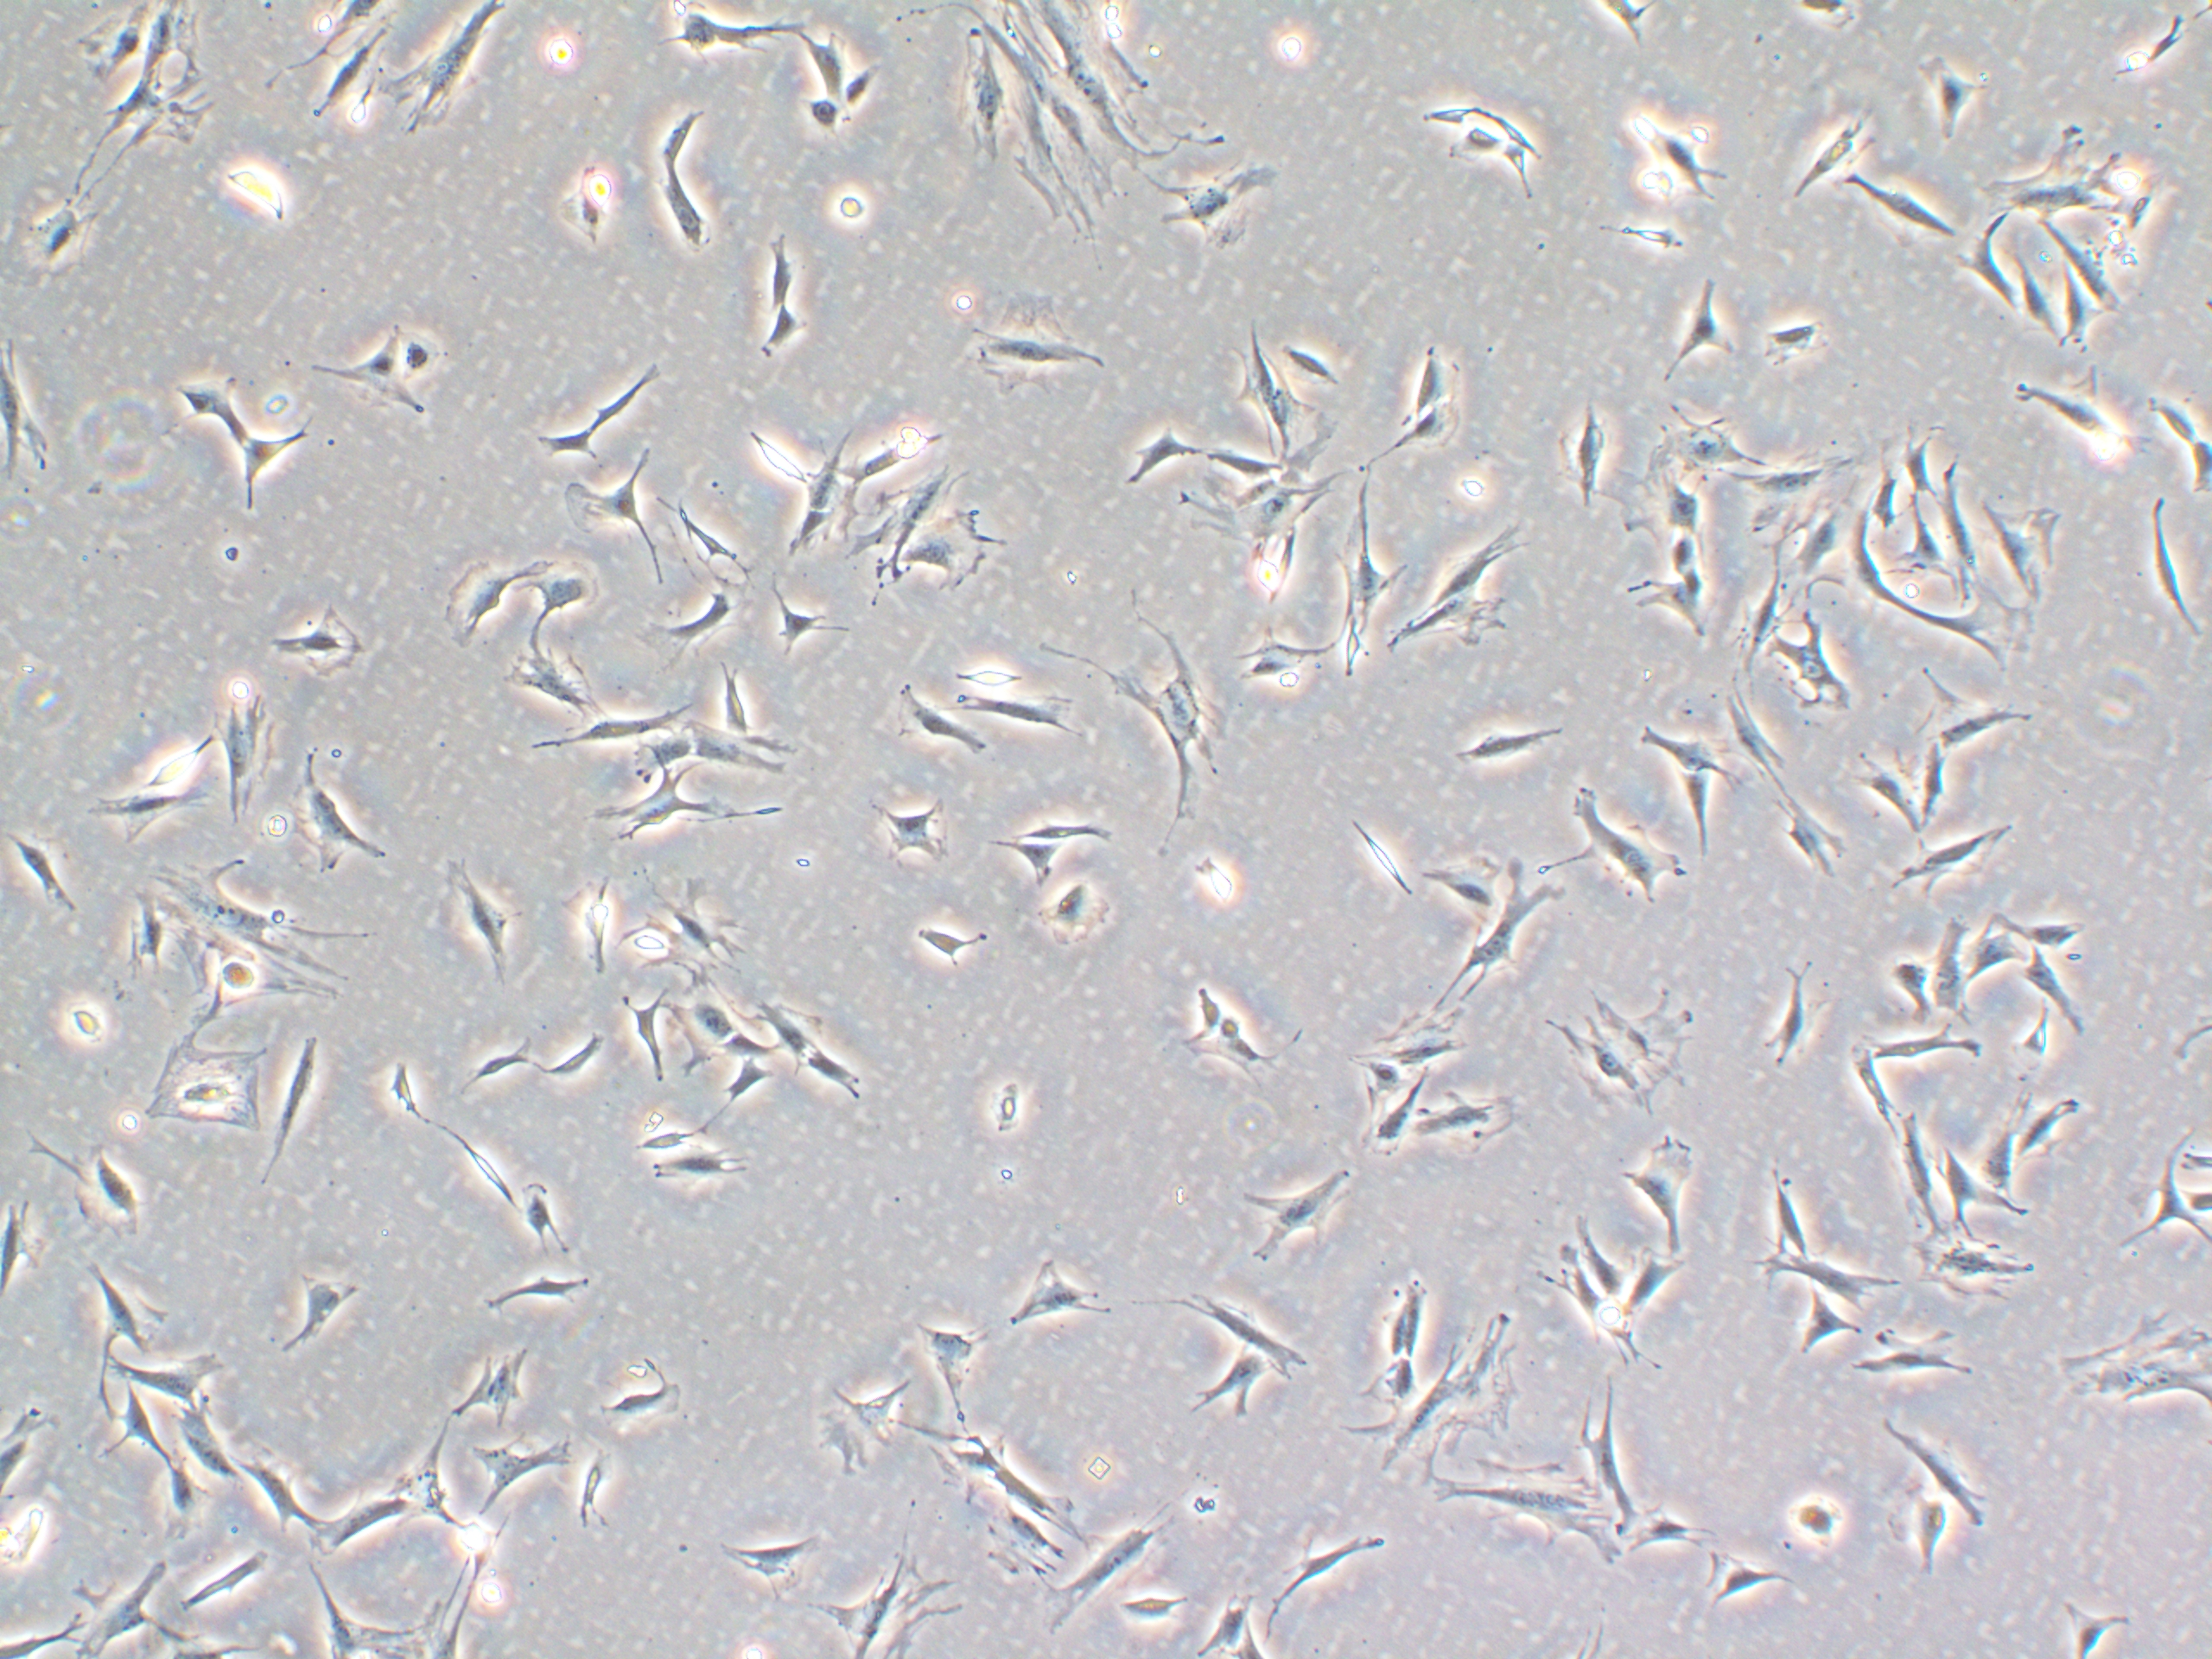Etc: (1331, 810, 1428, 910), (439, 1108, 519, 1213), (899, 915, 1001, 985), (1498, 138, 1554, 227), (1402, 92, 1484, 134), (1484, 103, 1543, 160), (1611, 214, 1684, 258)
polygonal: (1017, 1506, 1190, 1645), (1423, 1457, 1618, 1577), (953, 270, 1109, 411), (1435, 852, 1566, 1016), (381, 0, 510, 155), (1541, 779, 1691, 901), (930, 1429, 1083, 1546), (2001, 364, 2158, 474), (1731, 425, 1888, 532), (1249, 1523, 1392, 1631), (1911, 582, 2052, 688), (1888, 810, 2031, 915), (1158, 1286, 1306, 1385), (253, 1033, 336, 1204), (1839, 160, 1972, 267), (1233, 1161, 1355, 1276), (310, 315, 434, 429), (282, 744, 388, 875), (707, 1518, 862, 1607), (425, 863, 529, 993), (455, 1422, 577, 1532), (1770, 479, 1869, 612), (1902, 664, 2045, 755), (1885, 1412, 1993, 1530), (1904, 1223, 2054, 1309), (641, 2, 815, 75), (1338, 476, 1411, 647), (1167, 141, 1287, 242), (1761, 606, 1860, 728), (1406, 518, 1541, 606), (1615, 714, 1761, 796), (1977, 481, 2071, 606), (631, 575, 758, 667), (2127, 1126, 2207, 1272), (1752, 1243, 1902, 1319), (1569, 1380, 1649, 1523), (521, 701, 695, 765), (233, 411, 331, 525), (629, 1138, 763, 1220), (582, 767, 732, 840), (1926, 1143, 2041, 1237), (430, 559, 543, 652), (892, 678, 1000, 774), (254, 601, 401, 671), (676, 716, 803, 796), (380, 1427, 465, 1546), (477, 640, 606, 718), (1756, 1145, 1844, 1258), (942, 688, 1092, 755), (1386, 587, 1519, 662), (1651, 274, 1745, 378), (1406, 1084, 1531, 1162), (2015, 943, 2101, 1058), (1618, 1129, 1695, 1256), (1789, 105, 1883, 207), (2134, 488, 2191, 653), (77, 1136, 167, 1241), (1611, 450, 1705, 549), (2, 824, 91, 929), (2005, 1089, 2111, 1176), (580, 1363, 700, 1439), (91, 775, 219, 847), (1855, 1006, 1996, 1070), (228, 1439, 314, 1546), (270, 1269, 368, 1361), (1770, 779, 1853, 884), (909, 1309, 991, 1415), (1003, 1251, 1111, 1331), (517, 556, 618, 641), (1881, 1110, 1946, 1243), (1691, 1542, 1792, 1626), (859, 791, 961, 873), (1355, 1065, 1437, 1168), (1757, 950, 1825, 1073), (1554, 394, 1622, 518), (444, 1337, 535, 1429), (1423, 838, 1507, 938), (98, 1344, 233, 1405), (1919, 450, 1991, 565), (557, 451, 648, 542), (211, 692, 272, 826), (1843, 748, 1926, 845), (298, 1493, 415, 1563), (1364, 392, 1472, 467), (157, 368, 260, 446), (85, 1262, 176, 1351), (1707, 683, 1784, 786), (1642, 404, 1754, 474), (1843, 507, 1907, 627), (167, 1540, 275, 1612), (1181, 1349, 1284, 1424), (1848, 1317, 1973, 1378), (1838, 1035, 1904, 1147), (585, 354, 679, 432), (1359, 1002, 1477, 1063), (631, 96, 725, 173), (1235, 620, 1338, 690), (1973, 899, 2118, 948), (1914, 47, 1984, 148), (742, 221, 808, 328), (1446, 711, 1575, 765), (91, 1380, 171, 1466), (799, 21, 857, 136), (738, 986, 820, 1066), (667, 972, 737, 1066), (469, 1267, 613, 1312), (644, 169, 716, 260), (176, 1403, 246, 1495), (876, 458, 975, 523), (1919, 913, 1975, 1026), (1122, 422, 1204, 497), (505, 1173, 577, 1258), (1963, 1105, 2027, 1195), (1958, 927, 2041, 997), (772, 584, 834, 674), (1784, 1284, 1857, 1361), (150, 1455, 212, 1544), (1613, 1500, 1719, 1553), (622, 985, 676, 1084), (1197, 432, 1284, 486), (1413, 338, 1468, 422), (747, 296, 819, 361), (803, 1051, 874, 1115), (1271, 338, 1348, 397), (984, 831, 1075, 880), (2059, 1586, 2118, 1656), (1912, 735, 1956, 828)
small-round: (1773, 1467, 1857, 1561), (1181, 845, 1264, 922), (824, 181, 888, 258), (44, 986, 111, 1056), (462, 1565, 524, 1629), (972, 1079, 1028, 1138), (392, 328, 448, 380)
spread: (941, 0, 1184, 242), (120, 856, 373, 1032), (1069, 605, 1237, 838), (1367, 1303, 1557, 1493), (1548, 972, 1703, 1126), (2055, 1300, 2212, 1424), (127, 1033, 279, 1147), (902, 509, 1021, 596)
